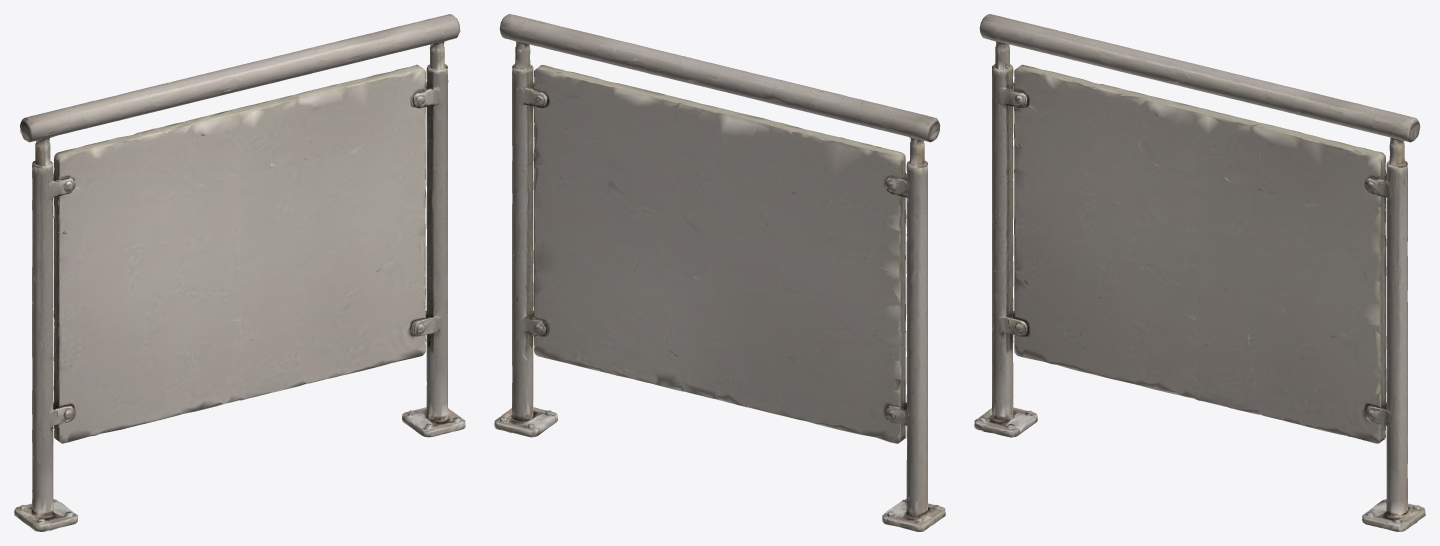
The model's file is valla_opt.glb.
The picture shows the model from 3 angles, left to right: view 1: azimuth 30°, elevation 25°; view 2: azimuth 150°, elevation 25°; view 3: azimuth 330°, elevation 25°; orthographic projection.
Visible parts, largest first — view 1: Mesh_0; view 2: Mesh_0; view 3: Mesh_0.
Part boxes in pixels (x1,y1,x2,y2): Mesh_0: [14, 14, 465, 531]; Mesh_0: [494, 14, 945, 531]; Mesh_0: [974, 14, 1425, 531].
Bounding box in the file's own units: 1.9 × 1.71 × 0.2057.
1 material, 1 textured.
